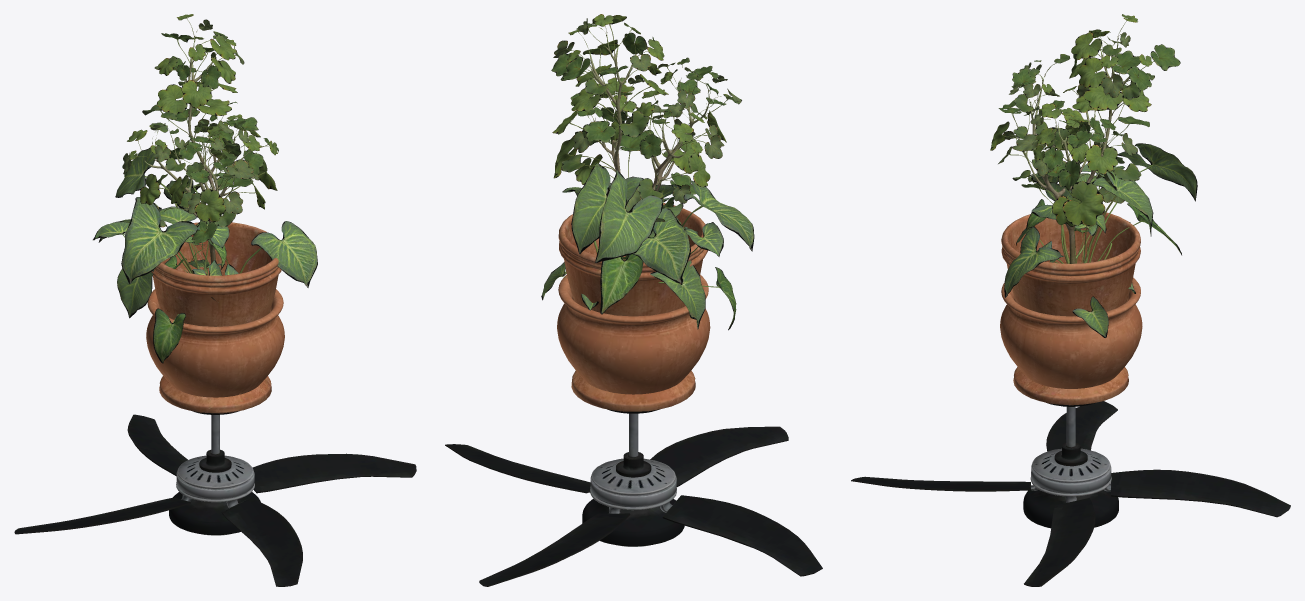
File: room-props.glb
3 views of the same model, side by side, from view 1: azimuth 30°, elevation 25°; view 2: azimuth 150°, elevation 25°; view 3: azimuth 270°, elevation 25° (orthographic). The views are drawn at different scales.
Visible parts, largest first — view 1: potted_plant_01_leaves, potted_plant_02_leaves, ceiling_fan_blades, potted_plant_01_pot, potted_plant_02_pot, ceiling_fan, potted_plant_01_stem; view 2: potted_plant_01_leaves, potted_plant_02_leaves, ceiling_fan_blades, potted_plant_02_pot, potted_plant_01_pot, ceiling_fan, potted_plant_01_stem; view 3: potted_plant_01_leaves, ceiling_fan_blades, potted_plant_01_pot, potted_plant_02_pot, potted_plant_02_leaves, ceiling_fan, potted_plant_01_stem.
Part boxes in pixels (x1=…): potted_plant_01_leaves: x1=122, y1=14, x2=278, y2=243; potted_plant_02_leaves: x1=93, y1=147, x2=317, y2=363; ceiling_fan_blades: x1=14, y1=414, x2=416, y2=586; potted_plant_01_pot: x1=151, y1=222, x2=281, y2=413; potted_plant_02_pot: x1=146, y1=289, x2=284, y2=397; ceiling_fan: x1=169, y1=411, x2=260, y2=535; potted_plant_01_stem: x1=145, y1=37, x2=251, y2=262; potted_plant_01_leaves: x1=551, y1=14, x2=741, y2=230; potted_plant_02_leaves: x1=541, y1=163, x2=754, y2=330; ceiling_fan_blades: x1=445, y1=426, x2=822, y2=586; potted_plant_02_pot: x1=557, y1=275, x2=710, y2=394; potted_plant_01_pot: x1=558, y1=203, x2=707, y2=411; ceiling_fan: x1=582, y1=409, x2=684, y2=546; potted_plant_01_stem: x1=589, y1=33, x2=709, y2=190; potted_plant_01_leaves: x1=990, y1=14, x2=1180, y2=226; ceiling_fan_blades: x1=851, y1=401, x2=1290, y2=586; potted_plant_01_pot: x1=1001, y1=212, x2=1140, y2=405; potted_plant_02_pot: x1=1000, y1=277, x2=1142, y2=388; potted_plant_02_leaves: x1=1004, y1=143, x2=1197, y2=337; ceiling_fan: x1=1023, y1=402, x2=1118, y2=528; potted_plant_01_stem: x1=1018, y1=37, x2=1136, y2=263.
Size of the model in its own units: 1.46 by 1.85 by 1.46.
5 materials, 5 textured.
